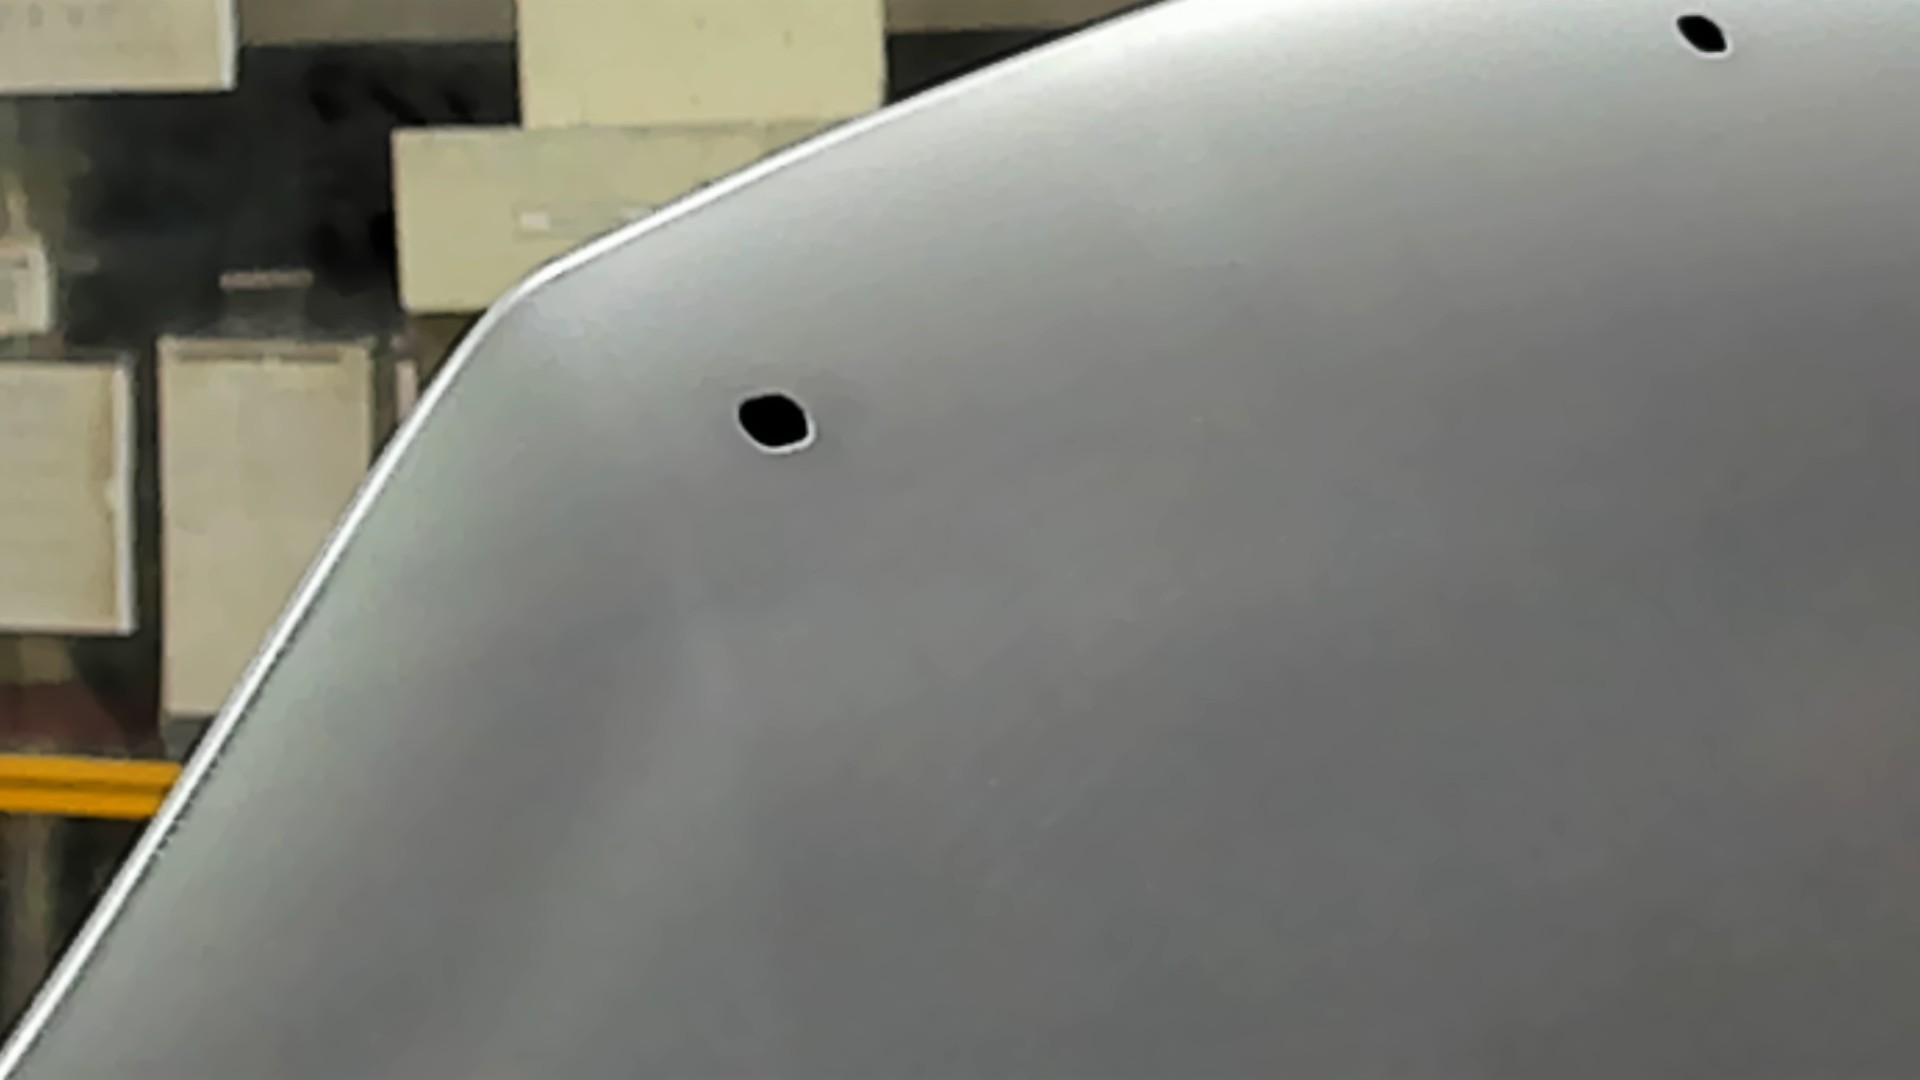amorfo: (728, 386, 820, 460), (1663, 1, 1745, 69)
capo: (934, 131, 1920, 1080)
